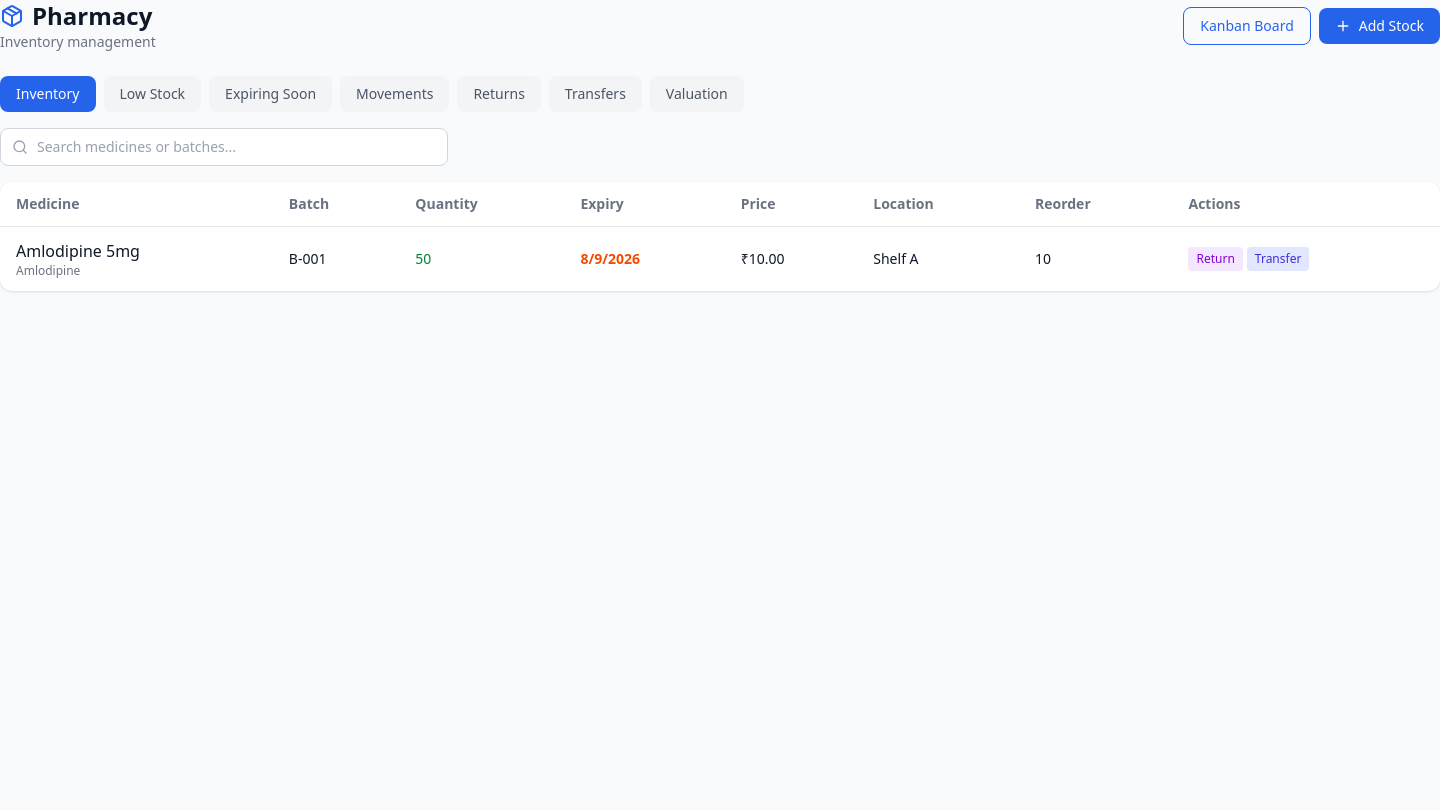
Test: PharmacyPage (inventory dashboard — full surface) › Return modal — Cancel button closes without POST
expect the text "Amlodipine 5mg" is shown: met, box [16,240,140,262]
Click the button "Return" at (1216, 259), box [1188,247,1243,271]
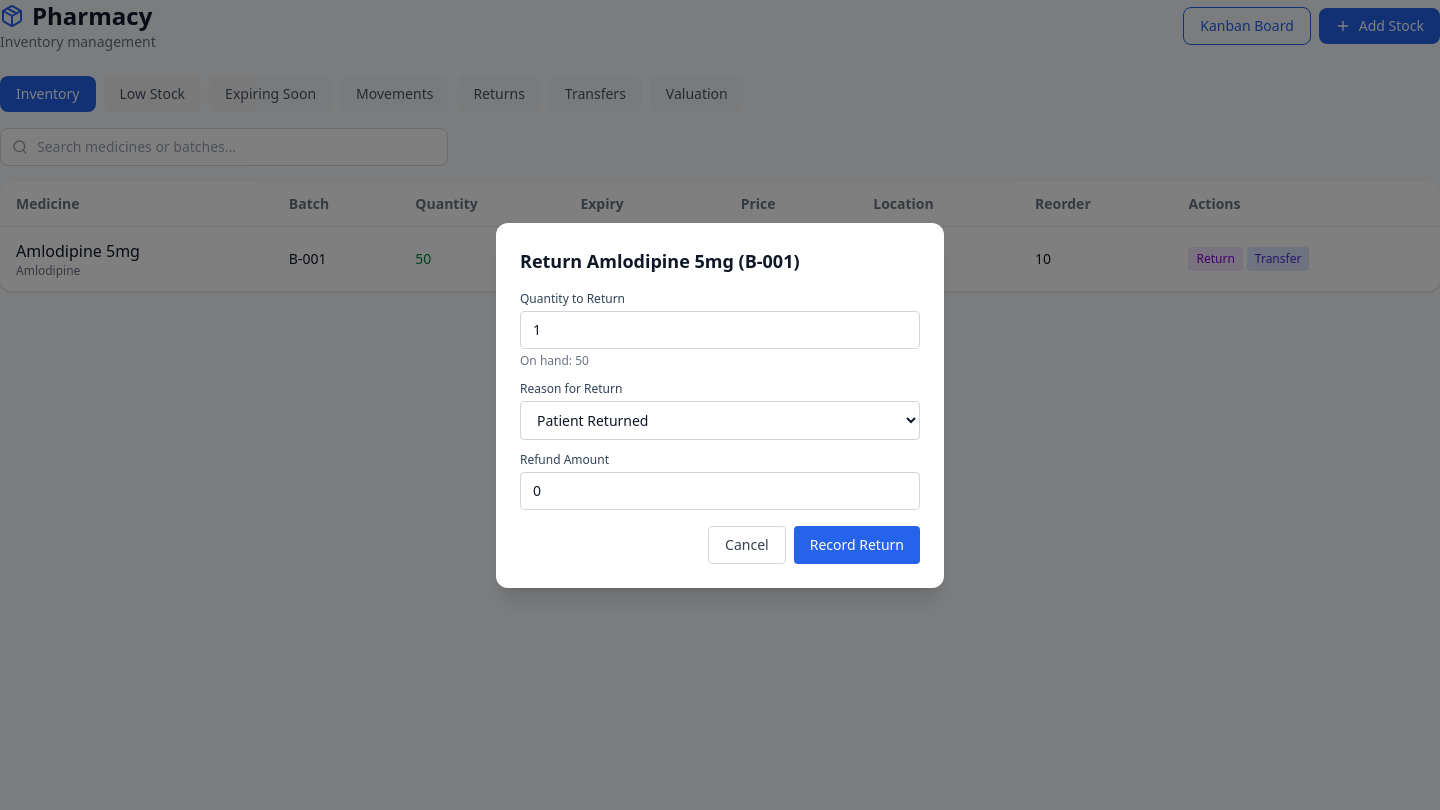
expect the number field with test id "pharmacy-return-qty" is shown: met, box [520,310,920,348]
Click the button "Cancel" at (747, 544), box [708,526,786,564]
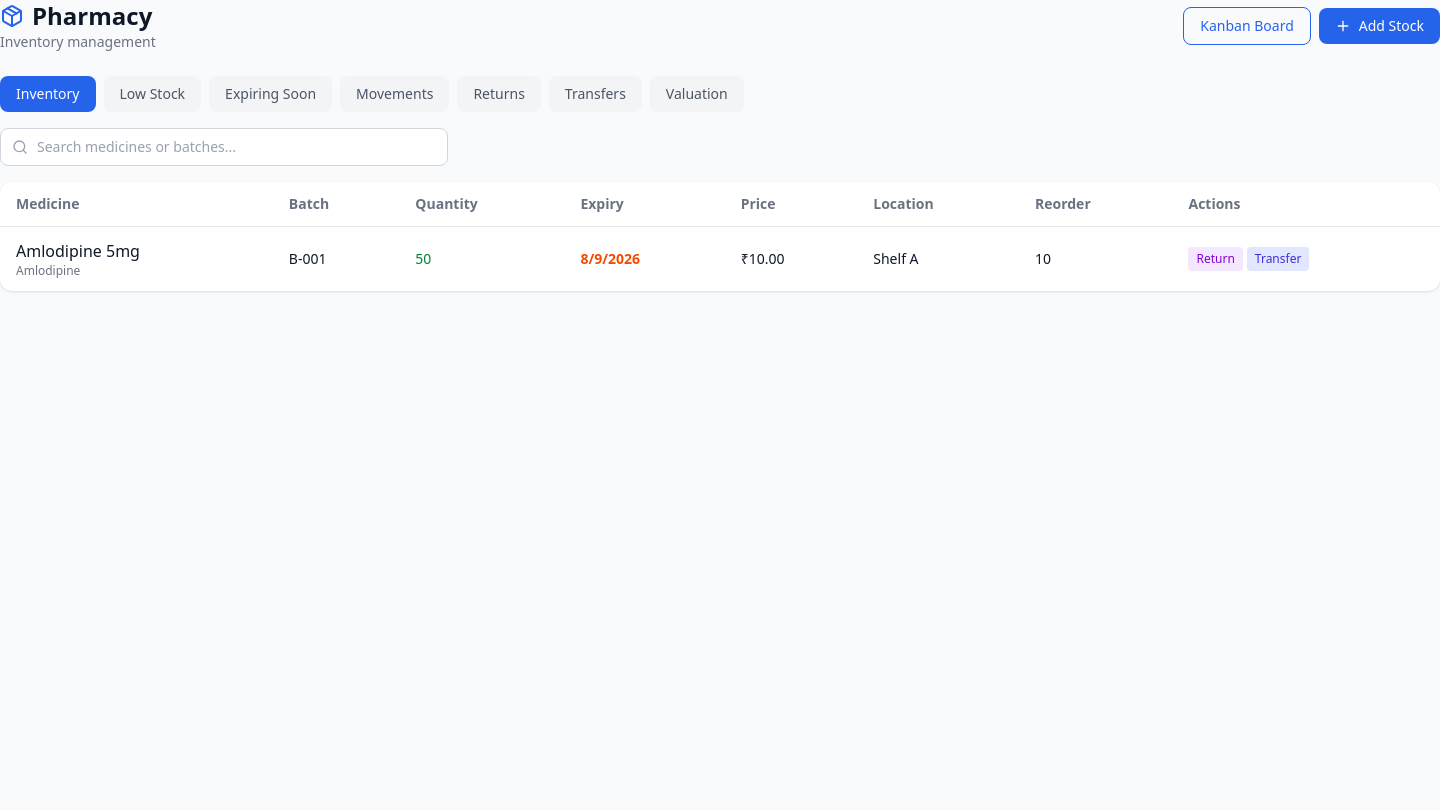
expect the label with test id "pharmacy-return-qty" is gone: met
